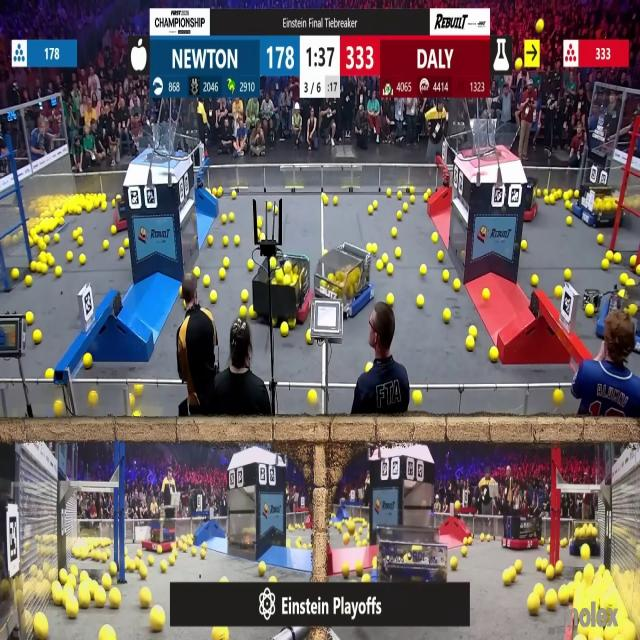ball_airborne: (536, 21, 544, 34), (516, 59, 524, 71), (455, 501, 460, 511)
ball_ground: (150, 610, 164, 633), (140, 589, 151, 609), (528, 595, 539, 615), (109, 590, 120, 609), (67, 600, 78, 618), (100, 626, 114, 640), (502, 568, 514, 584), (78, 592, 90, 608), (95, 591, 106, 608), (545, 594, 555, 611), (55, 402, 65, 418), (559, 589, 569, 605), (554, 389, 564, 404), (90, 391, 98, 407), (103, 574, 112, 588), (83, 353, 91, 368), (343, 562, 351, 577), (309, 390, 317, 405), (413, 391, 422, 404), (582, 548, 591, 561), (281, 322, 289, 336), (34, 331, 42, 345), (555, 562, 563, 576), (417, 294, 425, 307), (466, 338, 474, 351), (586, 305, 594, 318), (546, 566, 554, 579), (491, 348, 498, 362), (258, 562, 265, 576), (210, 290, 218, 302), (240, 307, 248, 319), (139, 566, 147, 578), (46, 254, 54, 266), (109, 563, 117, 575), (451, 557, 458, 570), (27, 312, 34, 325), (242, 289, 249, 302), (516, 560, 523, 573), (535, 586, 544, 596), (218, 269, 226, 280), (128, 560, 136, 571), (387, 292, 394, 304), (445, 310, 452, 322), (61, 570, 68, 582), (468, 326, 476, 336), (80, 571, 88, 581), (356, 560, 362, 573), (420, 266, 427, 277), (204, 276, 211, 287), (444, 271, 451, 282), (26, 276, 33, 287), (454, 280, 461, 291), (564, 270, 571, 281), (56, 267, 63, 278), (615, 252, 622, 263), (621, 274, 628, 285), (535, 559, 542, 570), (248, 308, 255, 319), (162, 562, 169, 573), (343, 533, 350, 544), (484, 288, 490, 300), (532, 275, 538, 287), (256, 216, 262, 228), (602, 261, 609, 271), (67, 251, 74, 261), (521, 241, 528, 251), (11, 270, 18, 280), (597, 235, 604, 245), (630, 255, 637, 265), (192, 268, 199, 278), (257, 232, 264, 242), (101, 202, 108, 212), (71, 566, 78, 576), (556, 286, 562, 297), (395, 247, 401, 258), (222, 257, 228, 268), (46, 367, 52, 378), (38, 242, 46, 250), (362, 573, 369, 582), (39, 252, 46, 261), (79, 254, 85, 264), (387, 266, 393, 276), (103, 240, 109, 250), (236, 236, 242, 246), (431, 234, 437, 244), (391, 229, 397, 239), (222, 237, 228, 247), (208, 236, 214, 246), (41, 264, 47, 274), (228, 213, 234, 223), (31, 262, 37, 272), (307, 333, 312, 345), (439, 251, 445, 261), (148, 556, 154, 566), (170, 556, 176, 566), (77, 237, 83, 247), (462, 545, 468, 555), (370, 242, 376, 252), (270, 575, 278, 582), (627, 278, 634, 286), (395, 212, 402, 220), (248, 261, 253, 272), (566, 216, 572, 225), (55, 235, 61, 244), (366, 362, 372, 371), (606, 251, 612, 260), (72, 232, 78, 241), (190, 546, 196, 555), (216, 187, 222, 196), (378, 262, 383, 272), (383, 253, 388, 263), (371, 558, 376, 568), (366, 243, 371, 253), (268, 203, 274, 211), (620, 289, 626, 297), (464, 536, 470, 544), (220, 214, 226, 222), (331, 198, 337, 206), (396, 190, 402, 198), (550, 197, 556, 205), (564, 202, 570, 210), (539, 536, 545, 544), (75, 206, 81, 214), (111, 225, 116, 234), (118, 248, 123, 257), (367, 206, 372, 215), (567, 189, 572, 198), (402, 205, 408, 212), (410, 186, 416, 193), (78, 227, 84, 234), (573, 190, 579, 197), (159, 545, 165, 552), (123, 240, 128, 248), (202, 550, 206, 560), (544, 197, 549, 205), (636, 266, 640, 276), (323, 198, 328, 206), (562, 538, 567, 546), (536, 188, 541, 196), (272, 319, 277, 327), (542, 187, 547, 195), (220, 576, 226, 582), (411, 195, 416, 202), (387, 189, 392, 196), (137, 551, 142, 558), (371, 202, 376, 209), (44, 237, 49, 244), (362, 539, 367, 546), (424, 193, 428, 201), (233, 190, 237, 198), (323, 249, 327, 256), (112, 201, 116, 208), (116, 193, 120, 200), (488, 537, 492, 544), (275, 207, 279, 214), (482, 534, 486, 540), (204, 542, 208, 548), (546, 544, 549, 551)
goal: (466, 123, 521, 159), (129, 130, 188, 160)
robot_blue: (316, 246, 377, 318), (574, 184, 620, 228), (614, 282, 640, 355), (571, 518, 605, 558)
robot_red: (265, 253, 313, 324), (502, 512, 544, 548), (143, 517, 176, 551), (524, 194, 538, 222)
